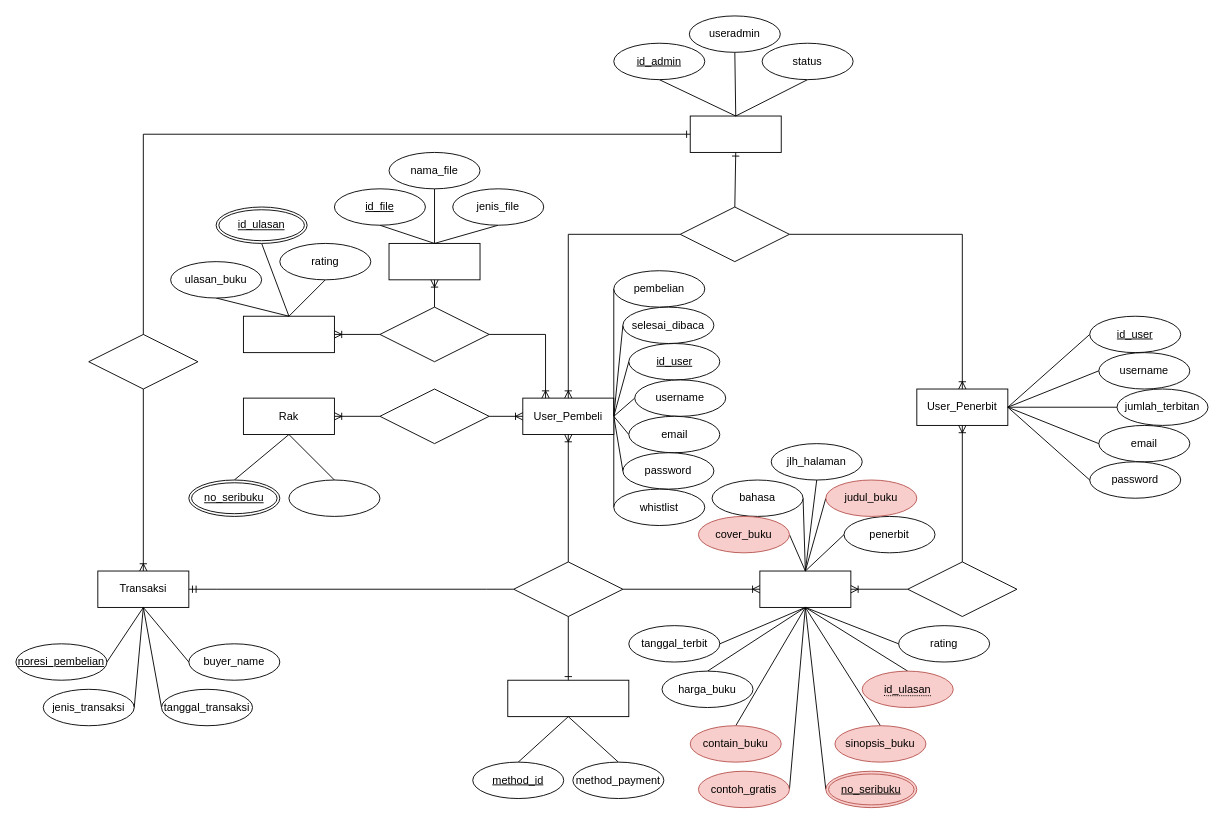
Some shapes in this 1224 by 824 pixel diagram are drawn without their labels. The box of each missing label's shape, as (x1, y1, x2, y2) in pixels:
Admin: (689, 115, 781, 152)
Buku: (759, 570, 851, 607)
Disetujui: (88, 334, 198, 389)
File: (388, 243, 480, 280)
Membeli: (513, 561, 623, 617)
Membuat: (379, 388, 489, 444)
Menerbitkan: (907, 561, 1017, 617)
Mengelola: (679, 206, 789, 262)
Mengupload: (379, 306, 489, 362)
Metode_Pembayaran: (507, 679, 629, 717)
nama_rak: (288, 479, 380, 516)
Ulasan: (243, 315, 334, 353)
